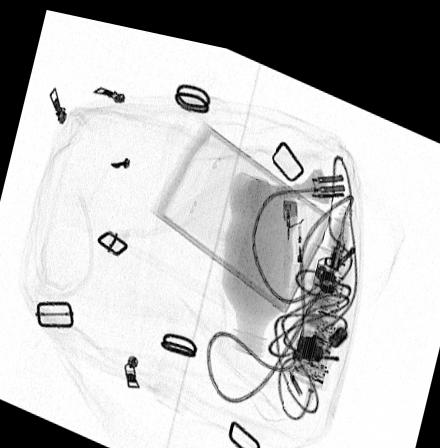Lighter: (280, 187, 304, 275)
